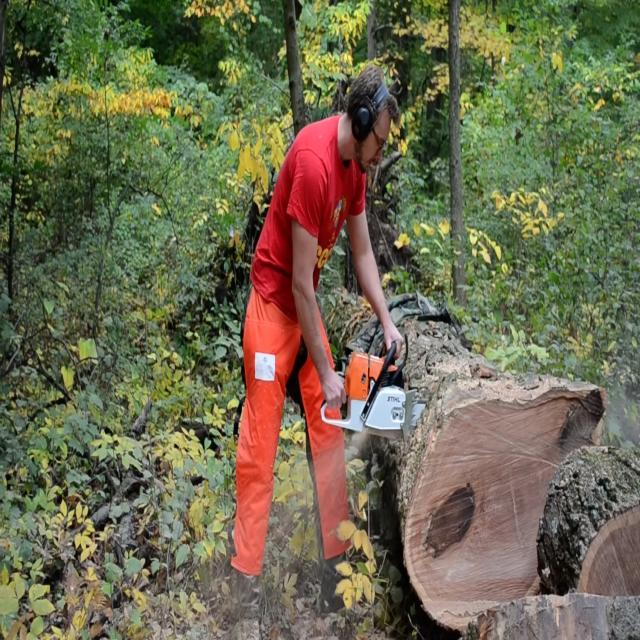Chainsaw: (313, 322, 455, 460)
